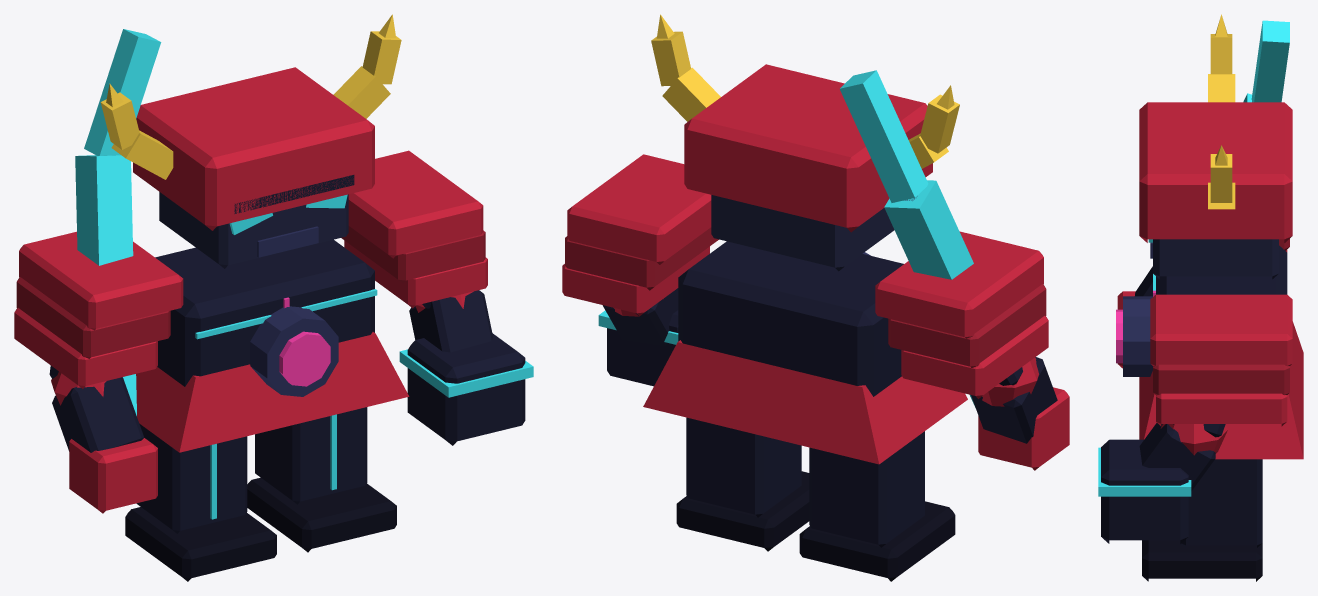
The model's file is r8_boss_neon_shogun.glb.
3 renders of one model, left to right at view 1: azimuth 30°, elevation 25°; view 2: azimuth 150°, elevation 25°; view 3: azimuth 270°, elevation 25°, orthographic. The views are drawn at different scales.
Visible parts, largest first — view 1: r8_boss_neon_shogun_mesh; view 2: r8_boss_neon_shogun_mesh; view 3: r8_boss_neon_shogun_mesh.
Boxes of the visible parts, box(x1,y1,x2,y2) form: r8_boss_neon_shogun_mesh: box(14, 14, 533, 581); r8_boss_neon_shogun_mesh: box(562, 14, 1069, 581); r8_boss_neon_shogun_mesh: box(1098, 14, 1303, 581).
Bounding box in the file's own units: 7.2 × 8 × 3.15.
Materials: 1 (1 with a texture image).
